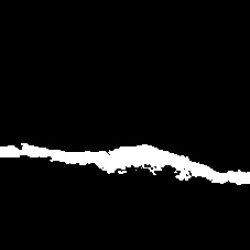crack: (3, 142, 250, 186)
